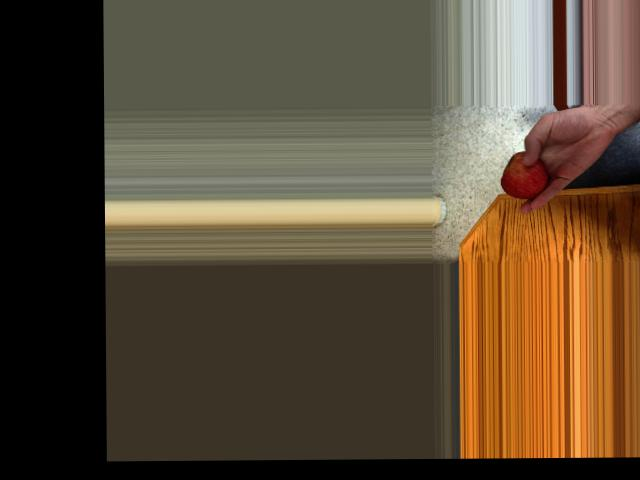apple: (498, 145, 551, 199)
